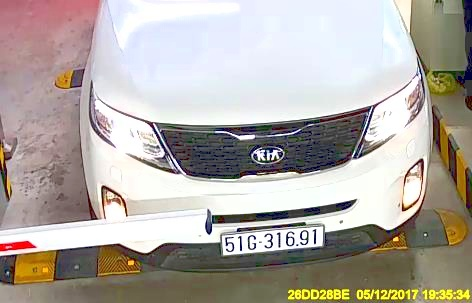plate: (218, 224, 325, 253)
